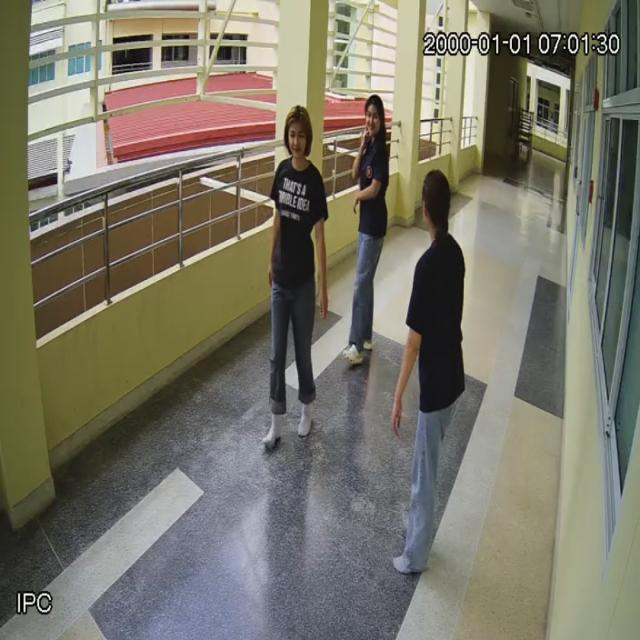normal: (398, 171, 464, 573), (264, 106, 326, 444), (348, 96, 388, 367)
